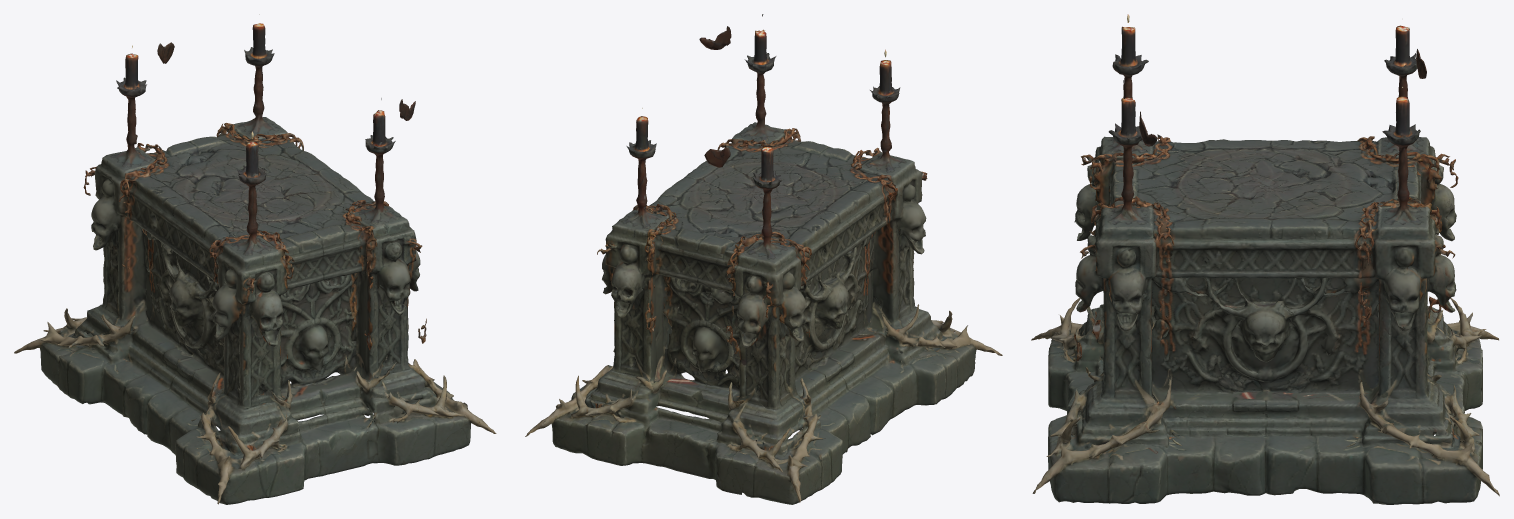
The model's file is Altar.glb.
3 views of the same model, side by side, from view 1: azimuth 30°, elevation 25°; view 2: azimuth 150°, elevation 25°; view 3: azimuth 270°, elevation 25° (orthographic). The views are drawn at different scales.
Visible parts, largest first — view 1: texture_mapping; view 2: texture_mapping; view 3: texture_mapping.
Boxes of the visible parts, box(x1,y1,x2,y2) form: texture_mapping: box(14, 14, 496, 504); texture_mapping: box(525, 14, 1002, 504); texture_mapping: box(1031, 14, 1499, 504).
Size of the model in its own units: 0.7846 by 0.9126 by 0.9943.
1 material, 1 textured.
